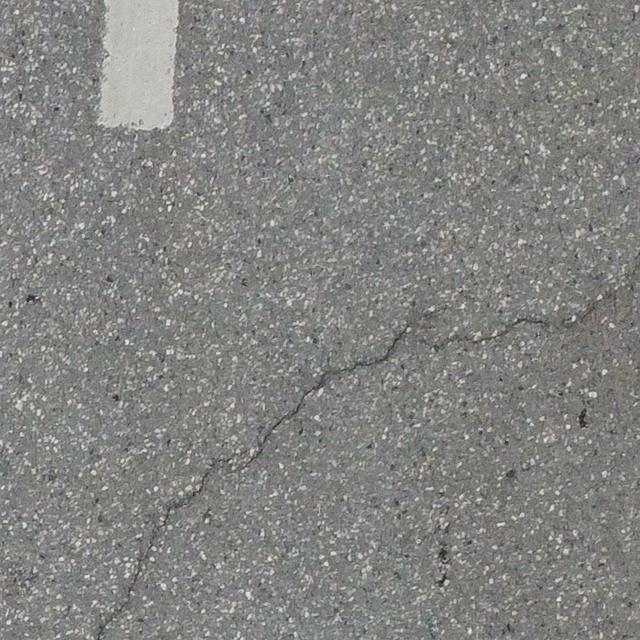TransverseCrack: (93, 312, 549, 637)
